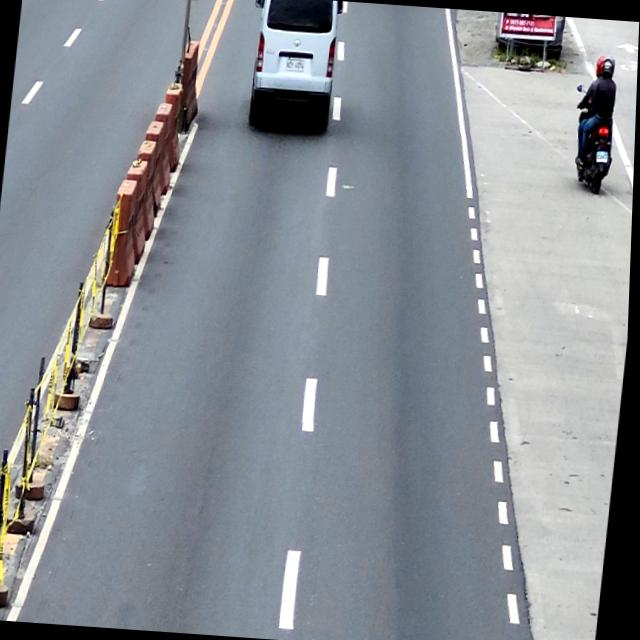Car: (242, 0, 344, 135)
License-Plate: (284, 58, 305, 72), (596, 150, 610, 164)
Motorcycle: (567, 83, 620, 195)
